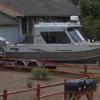Boat: (9, 18, 100, 66)
